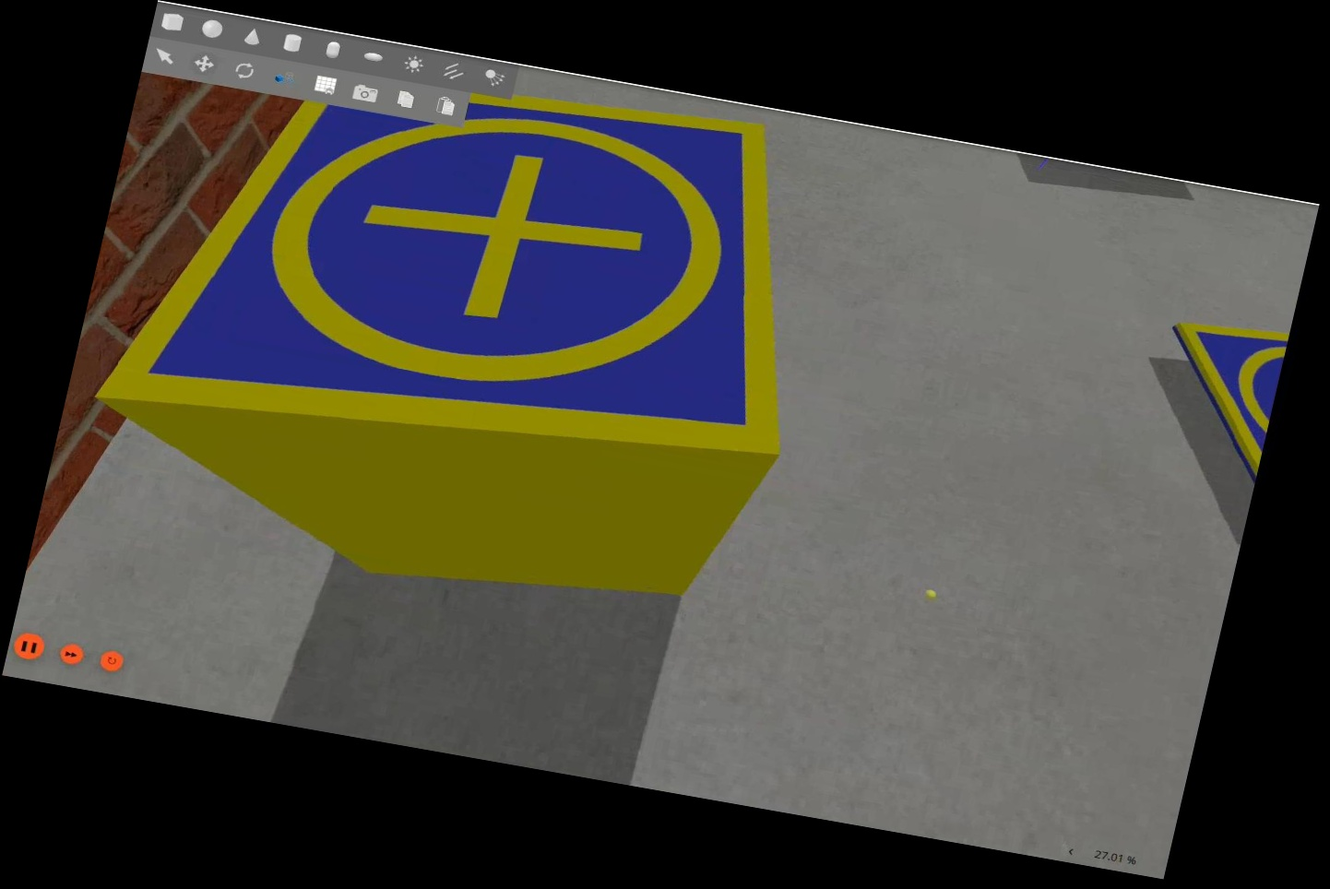small_base: (95, 13, 858, 530), (1142, 311, 1300, 481)
